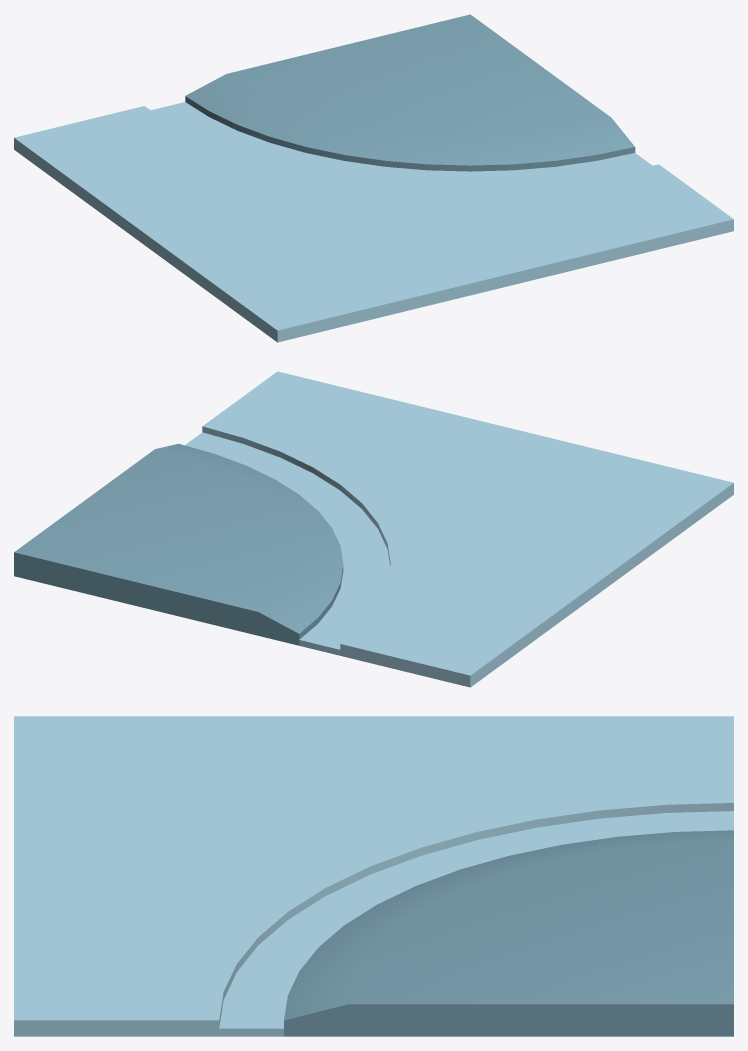
Rendered from roadCorner.fbx.
The picture shows the model from 3 angles, top to bottom: view 1: azimuth 30°, elevation 25°; view 2: azimuth 150°, elevation 25°; view 3: azimuth 270°, elevation 25°; orthographic projection. The views are drawn at different scales.
Visible parts, largest first — view 1: roadCorner; view 2: roadCorner; view 3: roadCorner.
Part boxes in pixels (x1,y1,x2,y2): roadCorner: (14, 14, 733, 342); roadCorner: (14, 371, 733, 687); roadCorner: (14, 716, 733, 1036).
Bounding box in the file's own units: 10 × 0.5 × 10.
